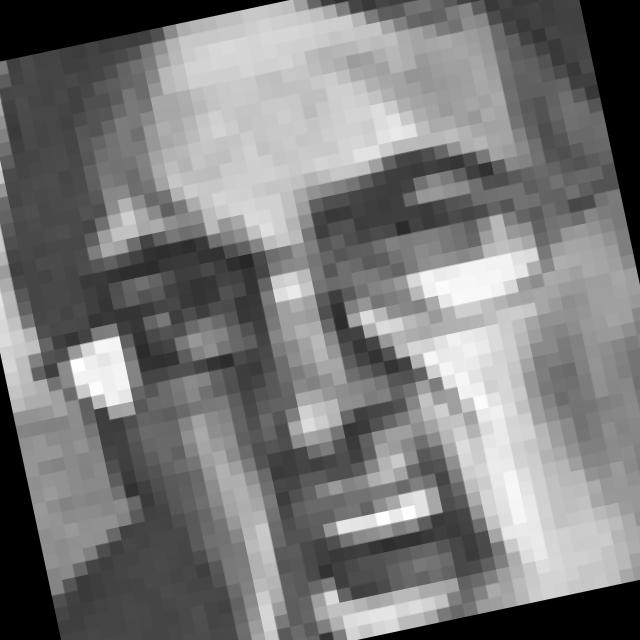disgust: (74, 125, 613, 640)
